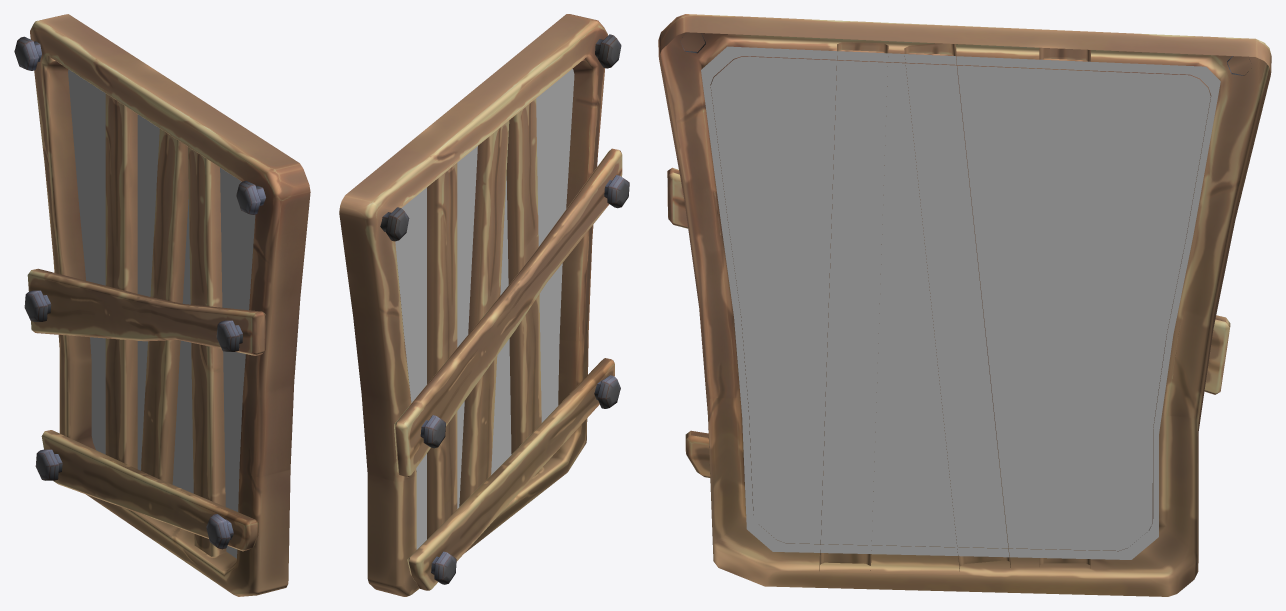
The model's file is SM_Window_01.fbx.
3 views of the same model, side by side, from view 1: azimuth 30°, elevation 25°; view 2: azimuth 150°, elevation 25°; view 3: azimuth 270°, elevation 25° (orthographic). The views are drawn at different scales.
Parts seen in each view (by area): view 1: SM_Window_01_LOD0; view 2: SM_Window_01_LOD0; view 3: SM_Window_01_LOD0.
Boxes of the visible parts, left/top/right/bottom form: SM_Window_01_LOD0: left=14, top=14, right=310, bottom=596; SM_Window_01_LOD0: left=339, top=14, right=629, bottom=596; SM_Window_01_LOD0: left=658, top=14, right=1271, bottom=596.
Bounding box in the file's own units: 18.85 × 118 × 120.
2 materials, 1 textured.
